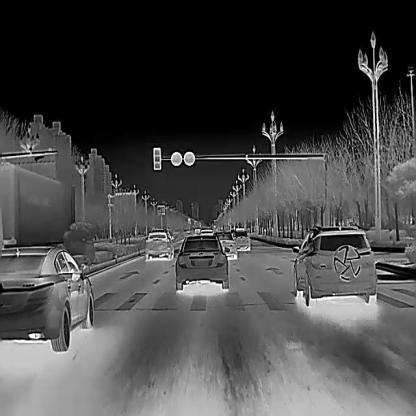car: (0, 245, 93, 350), (0, 160, 75, 269), (293, 222, 377, 306), (173, 232, 230, 290), (145, 227, 173, 260), (215, 231, 237, 259), (230, 226, 250, 250), (199, 228, 213, 242)
